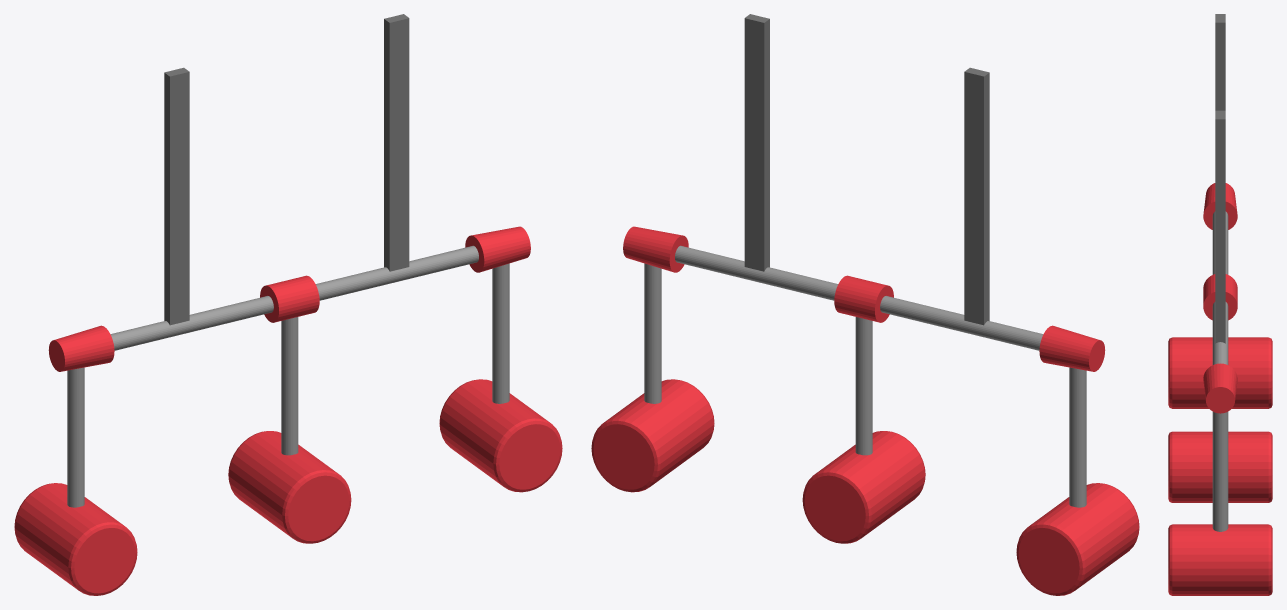
Rendered from barrier-2.fbx.
The picture shows the model from 3 angles, left to right: view 1: azimuth 30°, elevation 25°; view 2: azimuth 150°, elevation 25°; view 3: azimuth 270°, elevation 25°; orthographic projection. The views are drawn at different scales.
Visible parts, largest first — view 1: Cylinder.002; view 2: Cylinder.002; view 3: Cylinder.002.
Part boxes in pixels (x1,y1,x2,y2): Cylinder.002: (14,14,562,595); Cylinder.002: (591,14,1139,595); Cylinder.002: (1168,14,1272,595).
Size of the model in its own units: 484 by 448 by 98.14.
